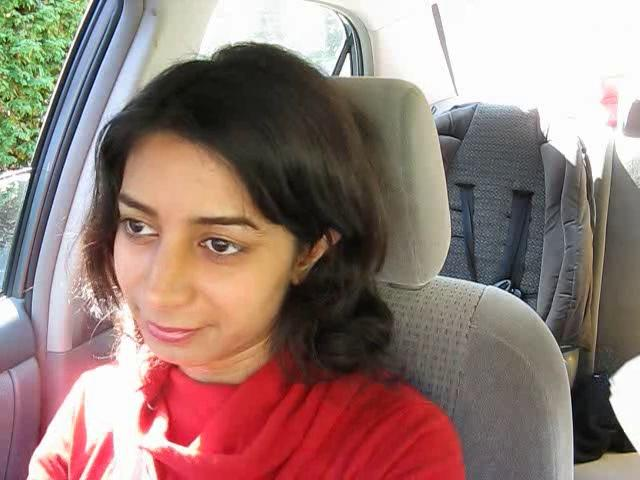no_yawn: (116, 302, 222, 356)
open_eyeL: (112, 204, 171, 249)
open_eyeR: (183, 224, 260, 267)
